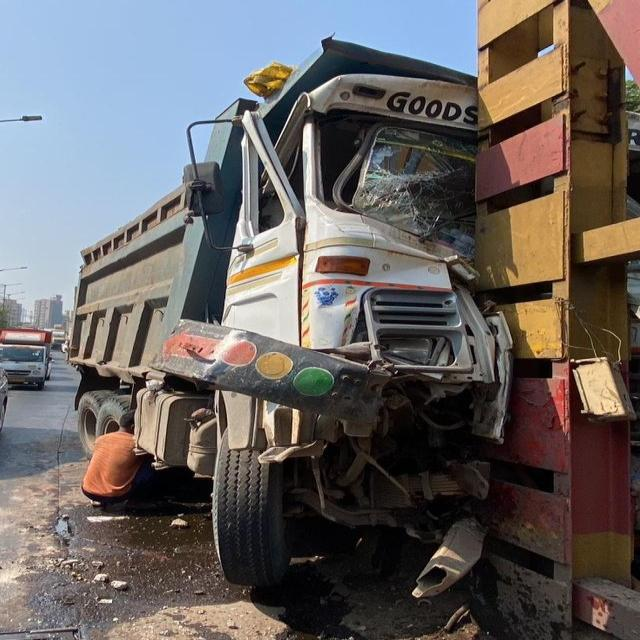accident: (66, 41, 513, 599)
truck: (0, 328, 51, 389)
